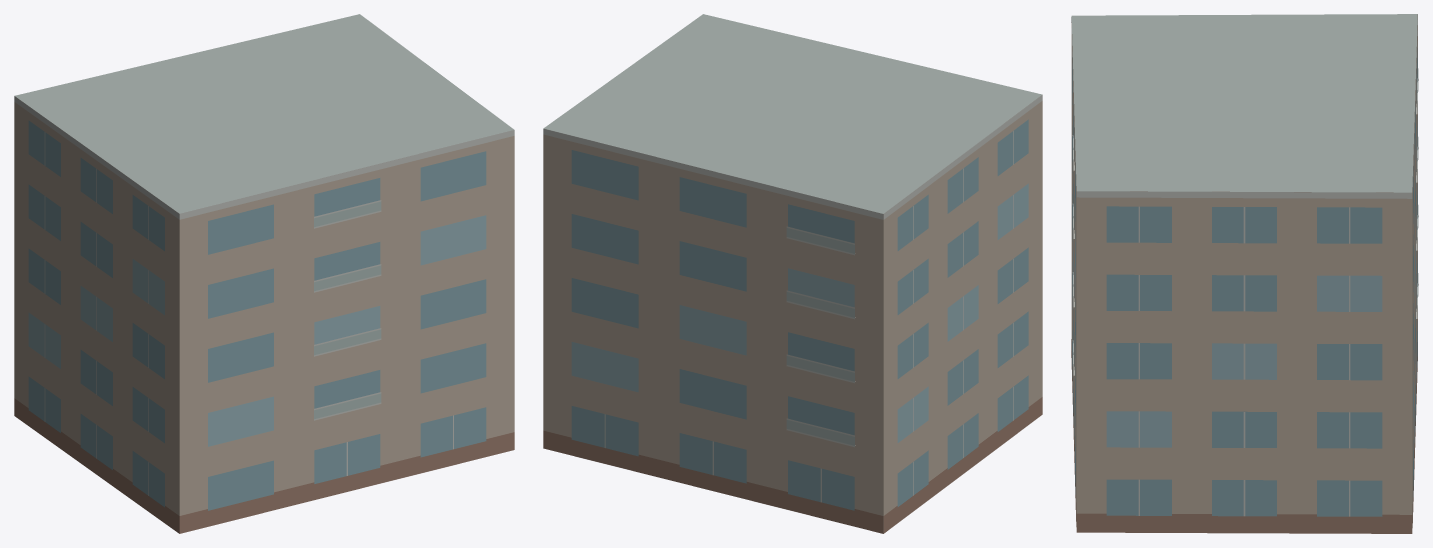
The model's file is survey-upis-32550922.glb.
3 renders of one model, left to right at view 1: azimuth 30°, elevation 25°; view 2: azimuth 150°, elevation 25°; view 3: azimuth 270°, elevation 25°, orthographic. The views are drawn at different scales.
Parts seen in each view (by area): view 1: survey-upis-32550922.tmp; view 2: survey-upis-32550922.tmp; view 3: survey-upis-32550922.tmp.
Part boxes in pixels (x1,y1,x2,y2): survey-upis-32550922.tmp: (14, 14, 514, 533); survey-upis-32550922.tmp: (543, 14, 1042, 533); survey-upis-32550922.tmp: (1071, 14, 1418, 533).
Size of the model in its own units: 14.81 by 13.2 by 12.16.
